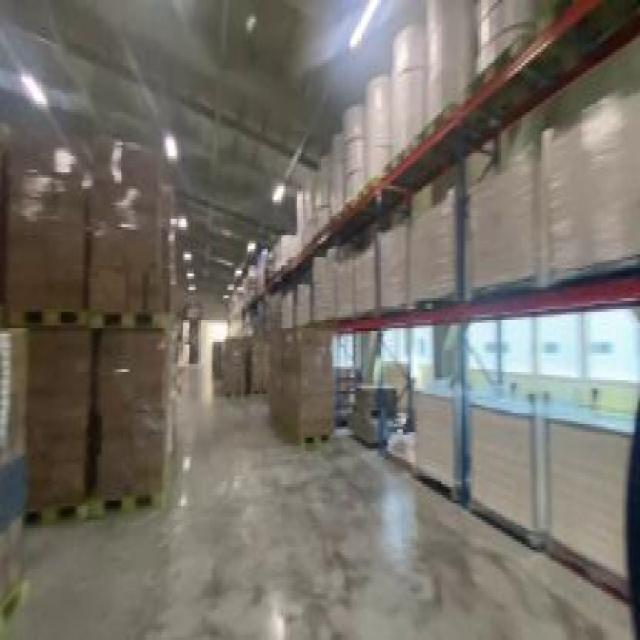box: (6, 123, 183, 517), (269, 326, 334, 440), (209, 326, 271, 396)
white_roll: (535, 400, 637, 616), (538, 101, 638, 287), (468, 380, 542, 550), (372, 197, 462, 309), (462, 164, 538, 295), (408, 372, 464, 503), (423, 3, 472, 123), (388, 22, 424, 159), (472, 2, 534, 76), (311, 252, 375, 317), (362, 68, 391, 186), (338, 101, 368, 208), (314, 131, 343, 227), (294, 175, 320, 254)
